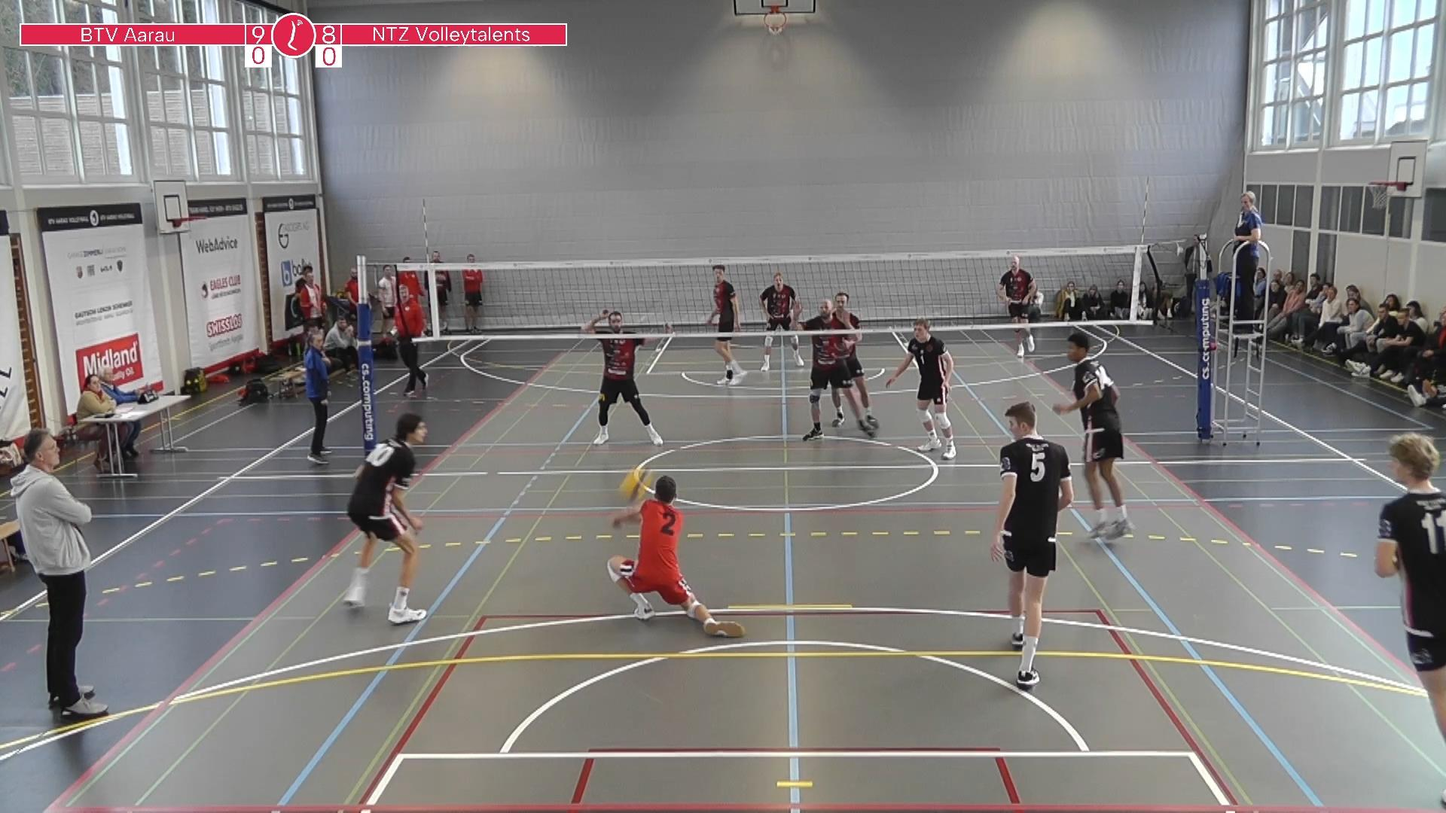Player: (990, 402, 1072, 689), (1374, 434, 1445, 735), (343, 413, 426, 624), (1054, 332, 1133, 539), (581, 311, 663, 446), (885, 318, 956, 459), (803, 333, 875, 440), (709, 264, 744, 385), (760, 273, 801, 371), (844, 333, 878, 428), (998, 255, 1037, 324)
Receive: (604, 464, 753, 649)
ball: (609, 459, 651, 501)
